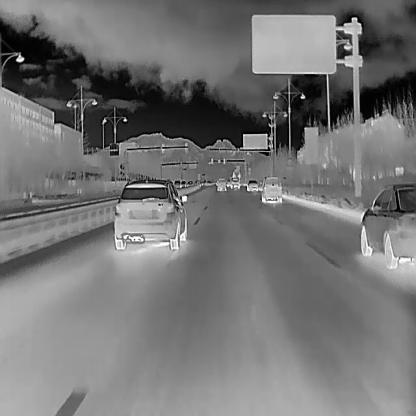car: (113, 178, 186, 249), (360, 183, 416, 268), (260, 174, 282, 204), (246, 177, 258, 192), (216, 177, 226, 191), (229, 176, 240, 188), (232, 167, 241, 179), (173, 179, 181, 188), (180, 179, 187, 187), (186, 178, 193, 186)
